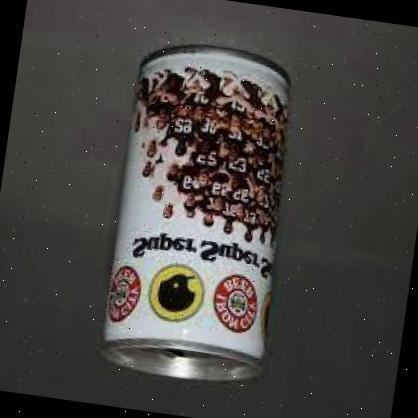can: (91, 39, 304, 390)
